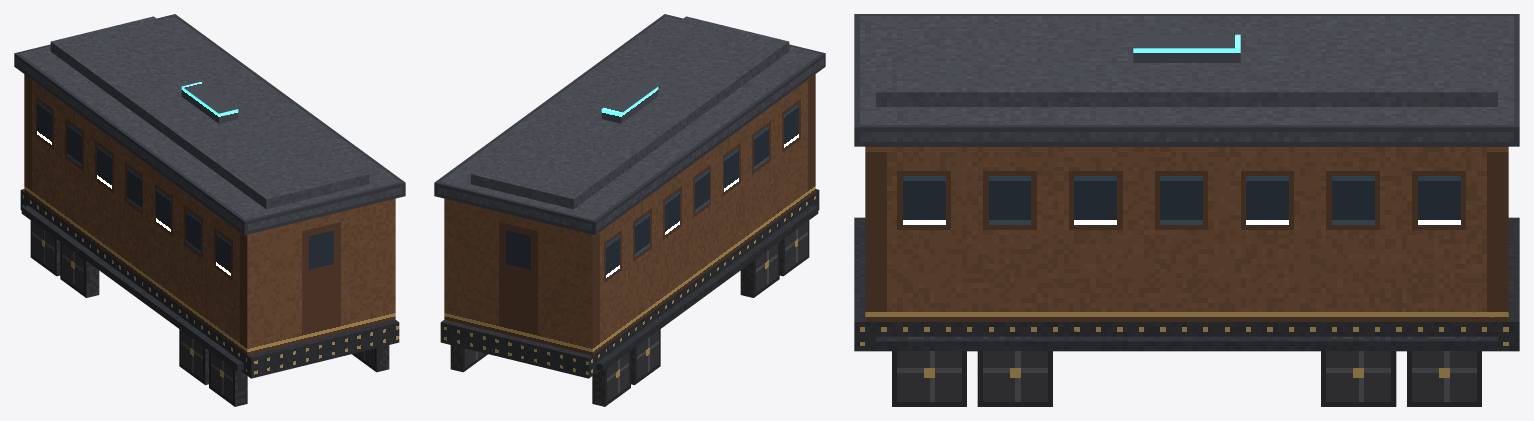
The model's file is rail_car.glb.
The picture shows the model from 3 angles, left to right: view 1: azimuth 30°, elevation 25°; view 2: azimuth 150°, elevation 25°; view 3: azimuth 270°, elevation 25°; orthographic projection. The views are drawn at different scales.
Parts seen in each view (by area): view 1: rail_car_coach, rail_car_roof_ridge, rail_car_roof, rail_car_frame, rail_car_step_l, rail_car_wheel_l1, rail_car_wheel_l3, rail_car_vent, rail_car_wheel_l0, rail_car_wheel_l2, rail_car_wheel_r3; view 2: rail_car_coach, rail_car_roof_ridge, rail_car_roof, rail_car_frame, rail_car_step_l, rail_car_wheel_l2, rail_car_wheel_l0, rail_car_vent, rail_car_wheel_l3, rail_car_wheel_l1, rail_car_wheel_r0; view 3: rail_car_coach, rail_car_roof_ridge, rail_car_roof, rail_car_frame, rail_car_step_r, rail_car_wheel_r1, rail_car_wheel_r2, rail_car_wheel_r0, rail_car_wheel_r3, rail_car_vent.
Boxes of the visible parts, box(x1,y1,x2,y2) form: rail_car_coach: box(24, 74, 395, 355); rail_car_roof_ridge: box(50, 16, 369, 209); rail_car_roof: box(14, 14, 405, 235); rail_car_frame: box(20, 189, 399, 378); rail_car_step_l: box(21, 205, 243, 371); rail_car_wheel_l1: box(60, 232, 99, 297); rail_car_wheel_l3: box(209, 351, 247, 406); rail_car_vent: box(181, 82, 238, 123); rail_car_wheel_l0: box(30, 210, 60, 276); rail_car_wheel_l2: box(179, 329, 208, 385); rail_car_wheel_r3: box(352, 345, 389, 372); rail_car_coach: box(444, 74, 815, 355); rail_car_roof_ridge: box(470, 16, 789, 209); rail_car_roof: box(434, 14, 825, 235); rail_car_frame: box(440, 189, 819, 378); rail_car_step_l: box(596, 205, 818, 371); rail_car_wheel_l2: box(740, 232, 779, 297); rail_car_wheel_l0: box(592, 351, 630, 406); rail_car_vent: box(601, 82, 658, 123); rail_car_wheel_l3: box(779, 210, 809, 276); rail_car_wheel_l1: box(631, 328, 660, 385); rail_car_wheel_r0: box(450, 345, 487, 372); rail_car_coach: box(865, 146, 1508, 321); rail_car_roof_ridge: box(876, 19, 1497, 106); rail_car_roof: box(854, 14, 1519, 146); rail_car_frame: box(854, 217, 1519, 351); rail_car_step_r: box(876, 336, 1497, 350); rail_car_wheel_r1: box(1321, 336, 1396, 406); rail_car_wheel_r2: box(977, 336, 1052, 406); rail_car_wheel_r0: box(1407, 336, 1481, 406); rail_car_wheel_r3: box(892, 336, 966, 406); rail_car_vent: box(1133, 34, 1240, 62).
Size of the model in its own units: 3.12 by 4 by 7.75.
1 material, 1 textured.
